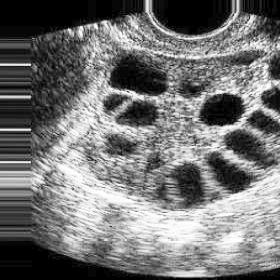PCOS: (112, 54, 174, 96), (224, 125, 276, 174), (205, 149, 253, 196), (199, 92, 248, 128), (176, 161, 205, 211), (114, 101, 162, 130), (250, 108, 280, 141), (178, 76, 210, 102), (105, 134, 138, 159), (98, 89, 128, 112), (143, 150, 163, 180), (261, 85, 280, 113), (155, 176, 170, 203), (269, 51, 280, 84)
